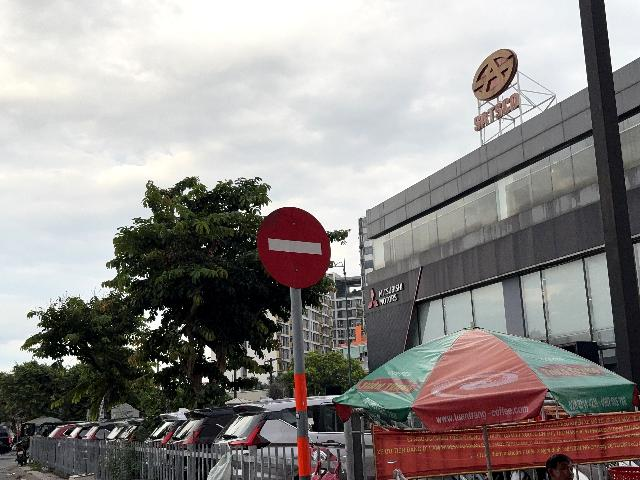cam-di-nguoc-chieu: (257, 207, 331, 288)
